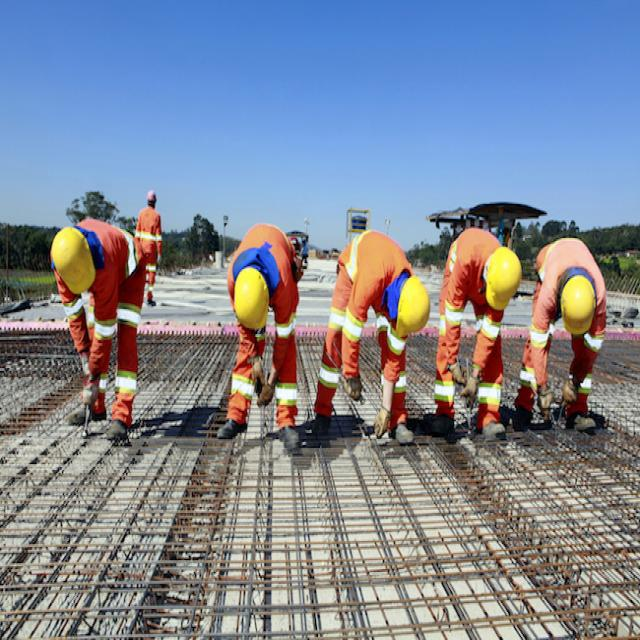Reflective-Jacket: (60, 225, 154, 424), (315, 232, 409, 420), (523, 238, 607, 417), (438, 229, 506, 427), (224, 272, 302, 427)
Safety-Helmet: (46, 222, 96, 294), (484, 244, 524, 312), (560, 273, 598, 337), (232, 266, 270, 330), (395, 275, 432, 338), (144, 186, 160, 207)
